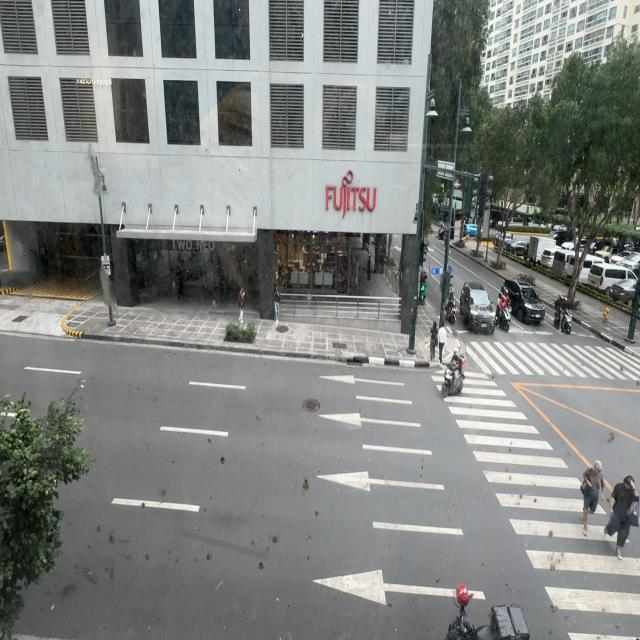crossing: (605, 475, 640, 558), (581, 461, 605, 536), (437, 320, 447, 367)
pedestrain: (429, 321, 438, 362), (273, 282, 281, 326), (238, 287, 245, 325), (367, 256, 371, 281)
